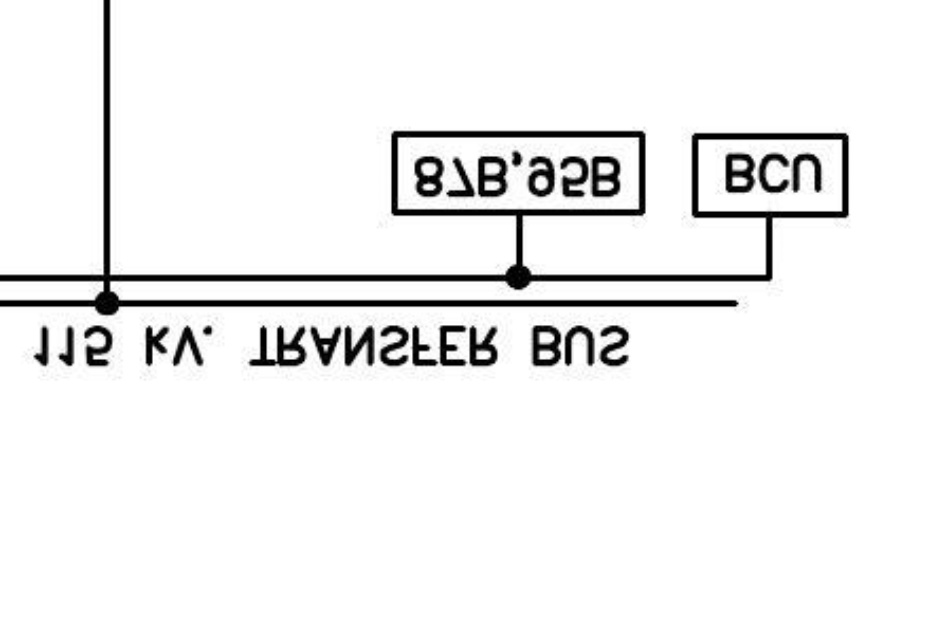BCU: (690, 132, 851, 219)
